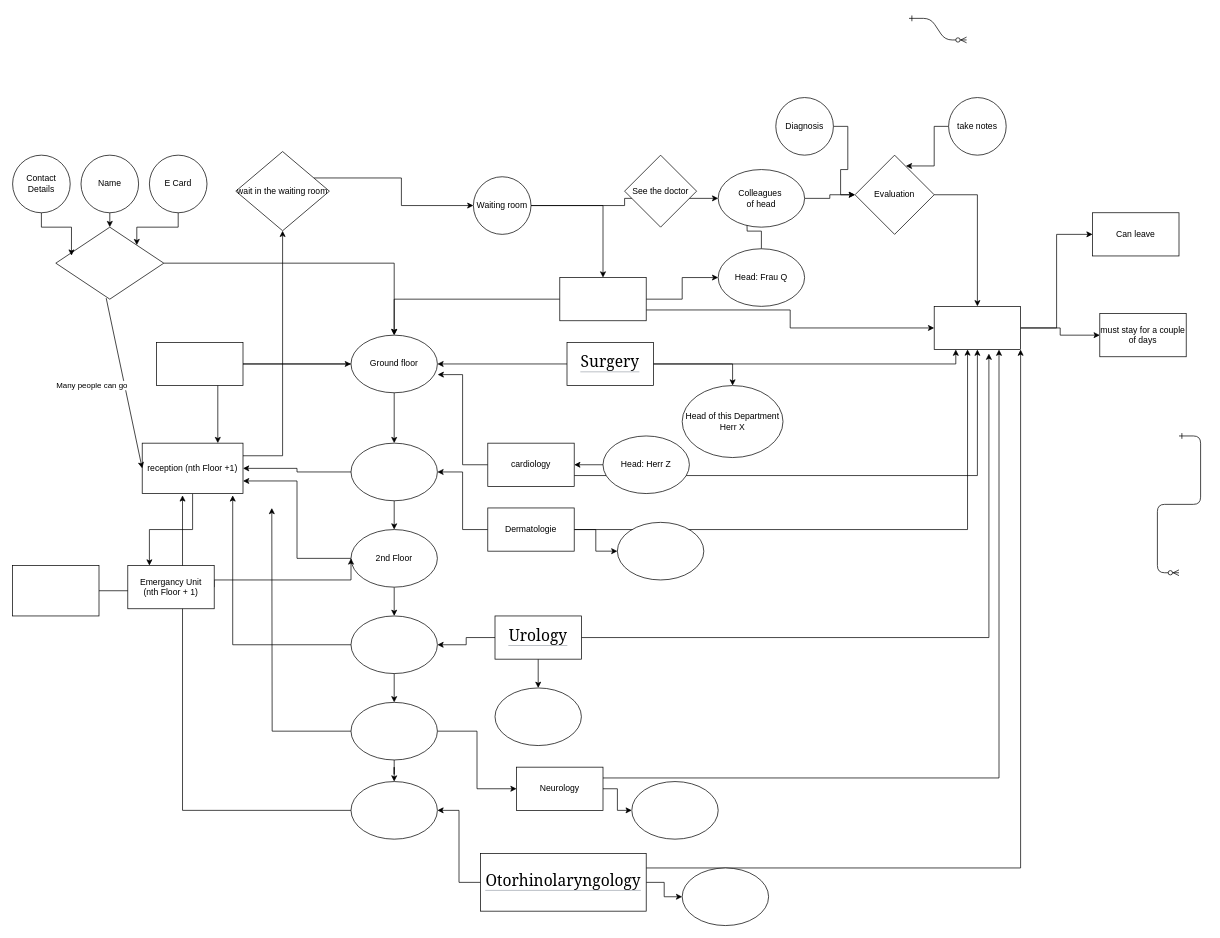
Image size: 1220x938. Some labels were removed from this diagram. The centre of each missing label's shape, as x and y in pixels:
"1st Floor" belongs at [393,471].
"3rd Floor" belongs at [393,644].
"4th Floor" belongs at [393,731].
"5th Floor" belongs at [393,810].
"Emergancy Case" belongs at [55,590].
"Head of Department: Frau Y" belongs at [660,551].
"Head Person: Herr Q" belongs at [537,716].
"Head Person: Herr T" belongs at [674,810].
"Head Person:Frau W" belongs at [725,896].
"Information for Patient" belongs at [199,364].
"Optometrie" belongs at [602,299].
"Register at reception" belongs at [109,262].
"Treatment Room" belongs at [977,328].
